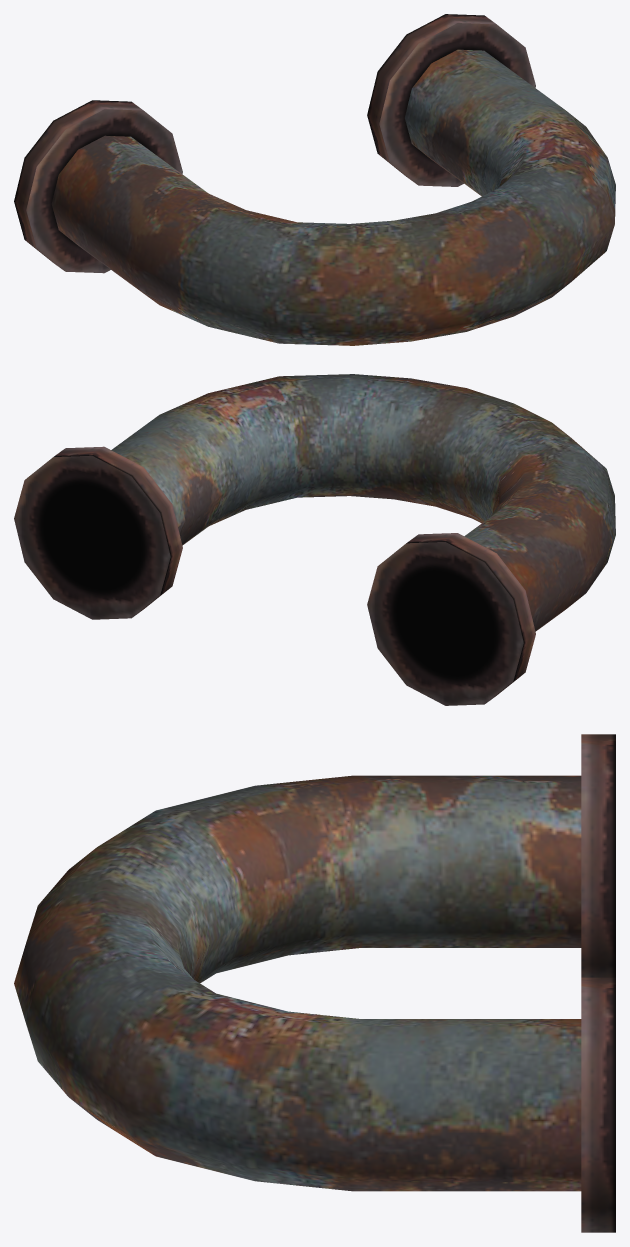
File: pipe01_U.fbx
The picture shows the model from 3 angles, top to bottom: view 1: azimuth 30°, elevation 25°; view 2: azimuth 150°, elevation 25°; view 3: azimuth 270°, elevation 25°; orthographic projection. The views are drawn at different scales.
Visible parts, largest first — view 1: pipe01_U; view 2: pipe01_U; view 3: pipe01_U.
Boxes of the visible parts, x1=… form: pipe01_U: x1=14, y1=14, x2=615, y2=345; pipe01_U: x1=14, y1=374, x2=615, y2=705; pipe01_U: x1=14, y1=734, x2=615, y2=1232.
Bounding box in the file's own units: 72.2 × 22.2 × 52.28.
